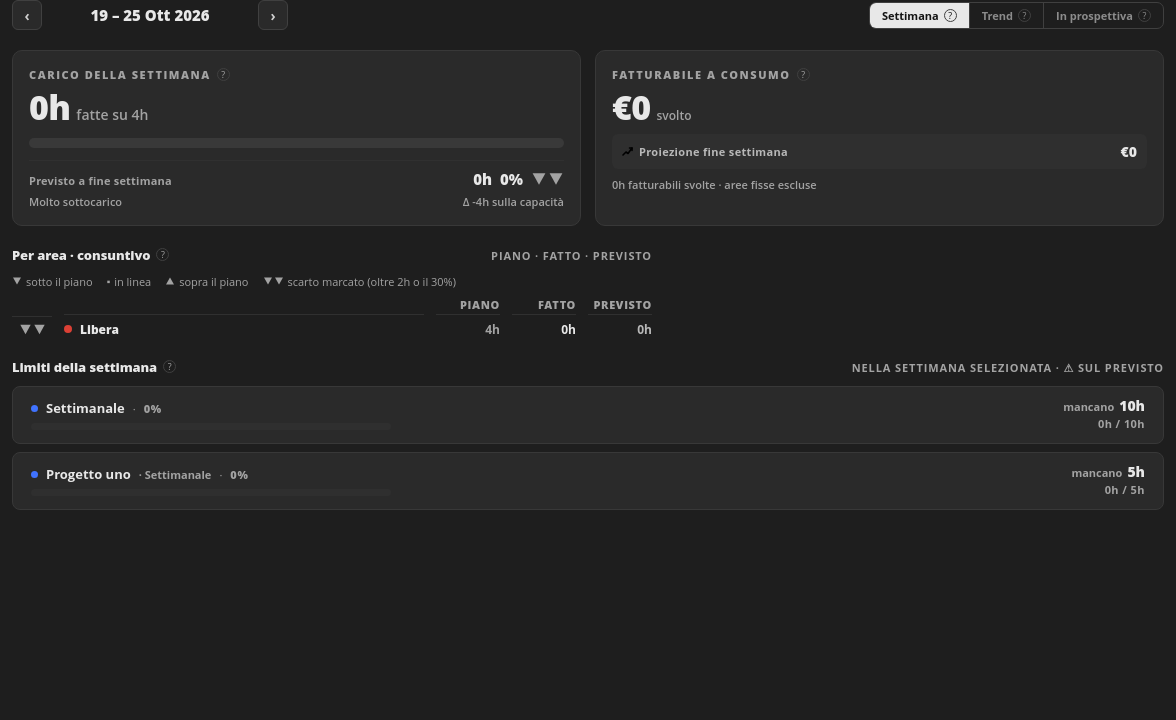
ProgressScreen / Trend: Da decidere › oltre il piano: barra piena, percentuale sopra 100 e ricorrenza da alzare
The image size is (1176, 720).
Click the button "Trend" at (997, 15), box [982,8,1013,22]
(page scrolled)
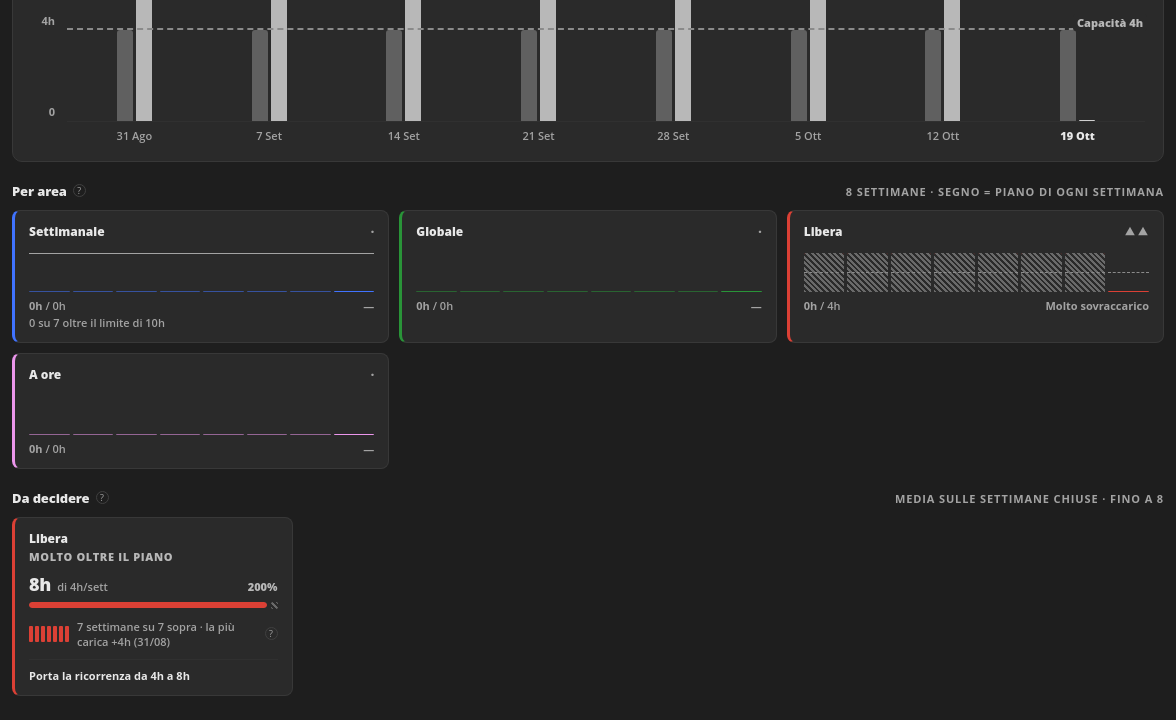
Now the text "8h" is shown, box [29,572,51,596]
Now the text "200%" is shown, box [248,578,278,594]
Now the element titled "Oltre il piano" is shown, box [270,602,278,608]
